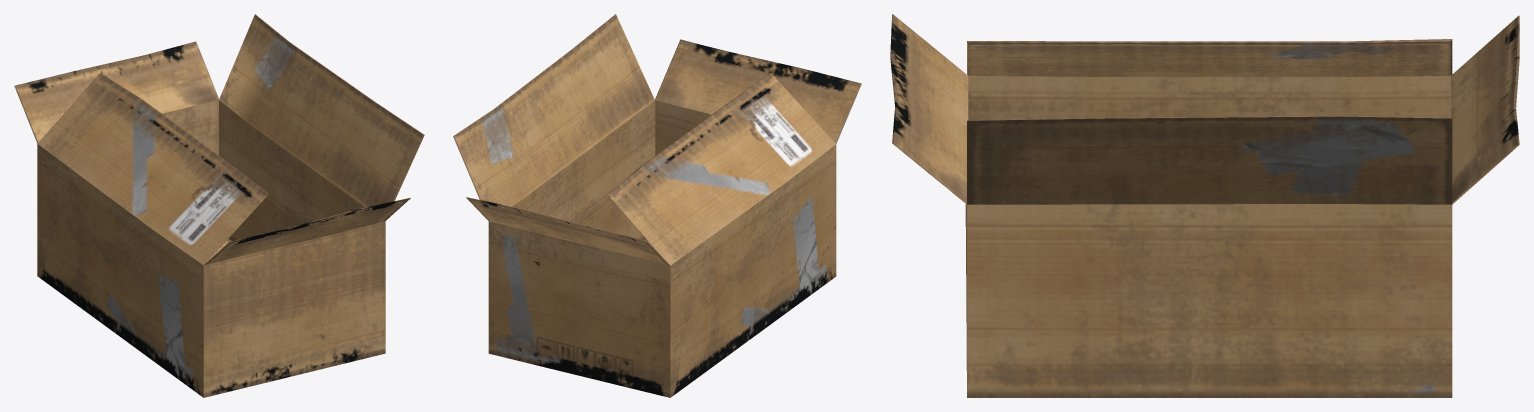
File: Prop_CardboardBox_1.fbx
The picture shows the model from 3 angles, left to right: view 1: azimuth 30°, elevation 25°; view 2: azimuth 150°, elevation 25°; view 3: azimuth 270°, elevation 25°; orthographic projection. The views are drawn at different scales.
Visible parts, largest first — view 1: Prop_CardboardBox_1; view 2: Prop_CardboardBox_1; view 3: Prop_CardboardBox_1.
Part boxes in pixels (left/top/right/bottom): Prop_CardboardBox_1: left=14, top=14, right=424, bottom=397; Prop_CardboardBox_1: left=453, top=14, right=861, bottom=397; Prop_CardboardBox_1: left=890, top=14, right=1519, bottom=397.
Size of the model in its own units: 23.67 by 21.24 by 39.73.
